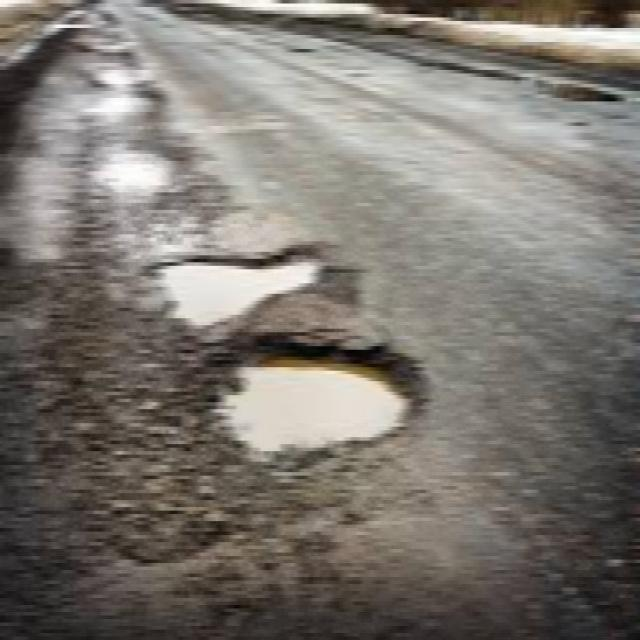Pothole: (179, 328, 443, 471), (131, 245, 335, 332), (81, 130, 201, 214), (65, 32, 173, 122), (532, 74, 630, 118)
